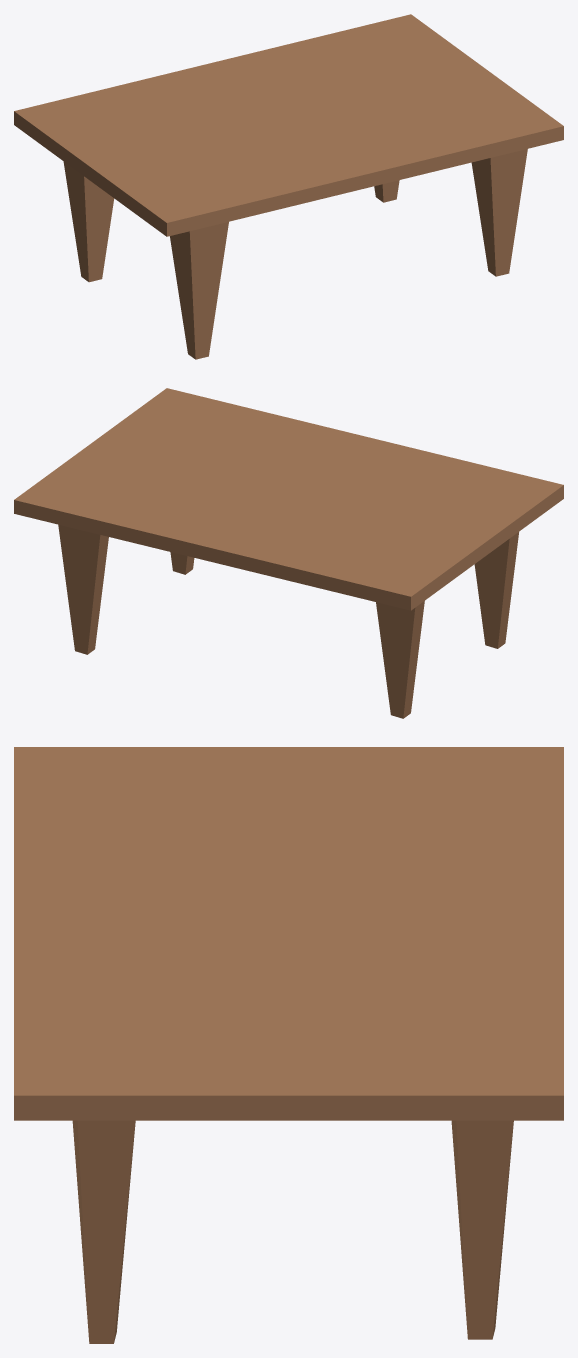
Rendered from testtable.glb.
3 renders of one model, top to bottom at view 1: azimuth 30°, elevation 25°; view 2: azimuth 150°, elevation 25°; view 3: azimuth 270°, elevation 25°, orthographic. The views are drawn at different scales.
Visible parts, largest first — view 1: TableTop, TableLeg_3.002, TableLeg_3.003, TableLeg_3; view 2: TableTop, TableLeg_3.001, TableLeg_3, TableLeg_3.002; view 3: TableTop, TableLeg_3.003, TableLeg_3.001.
Boxes of the visible parts, bbox=[...] form: TableTop: bbox=[14, 14, 563, 236]; TableLeg_3.002: bbox=[170, 222, 228, 359]; TableLeg_3.003: bbox=[471, 149, 527, 276]; TableLeg_3: bbox=[63, 161, 114, 282]; TableTop: bbox=[14, 388, 563, 610]; TableLeg_3.001: bbox=[58, 524, 108, 654]; TableLeg_3: bbox=[376, 601, 424, 718]; TableLeg_3.002: bbox=[474, 532, 518, 648]; TableTop: bbox=[14, 747, 563, 1120]; TableLeg_3.003: bbox=[72, 1120, 135, 1343]; TableLeg_3.001: bbox=[451, 1120, 513, 1339].
Bounding box in the file's own units: 3 × 1.14 × 2.
